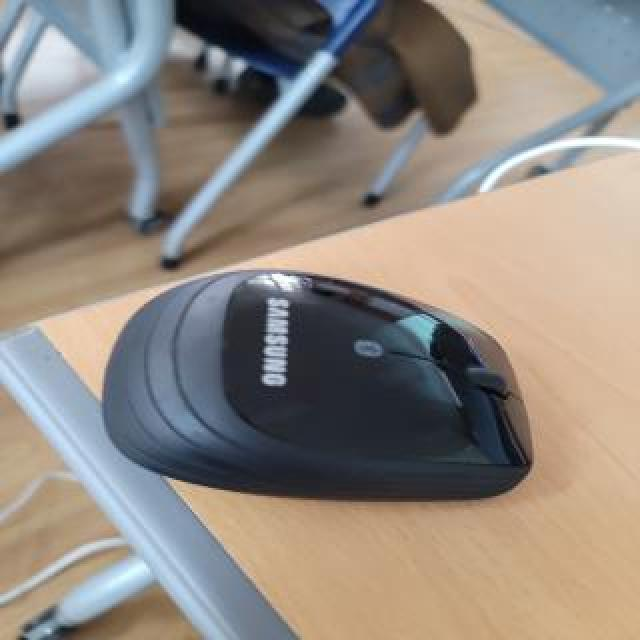mouse: (99, 269, 539, 496)
